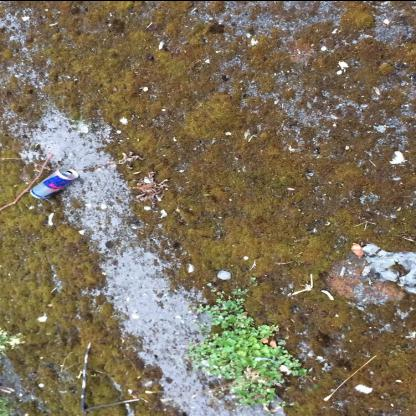metal: (30, 168, 80, 198)
